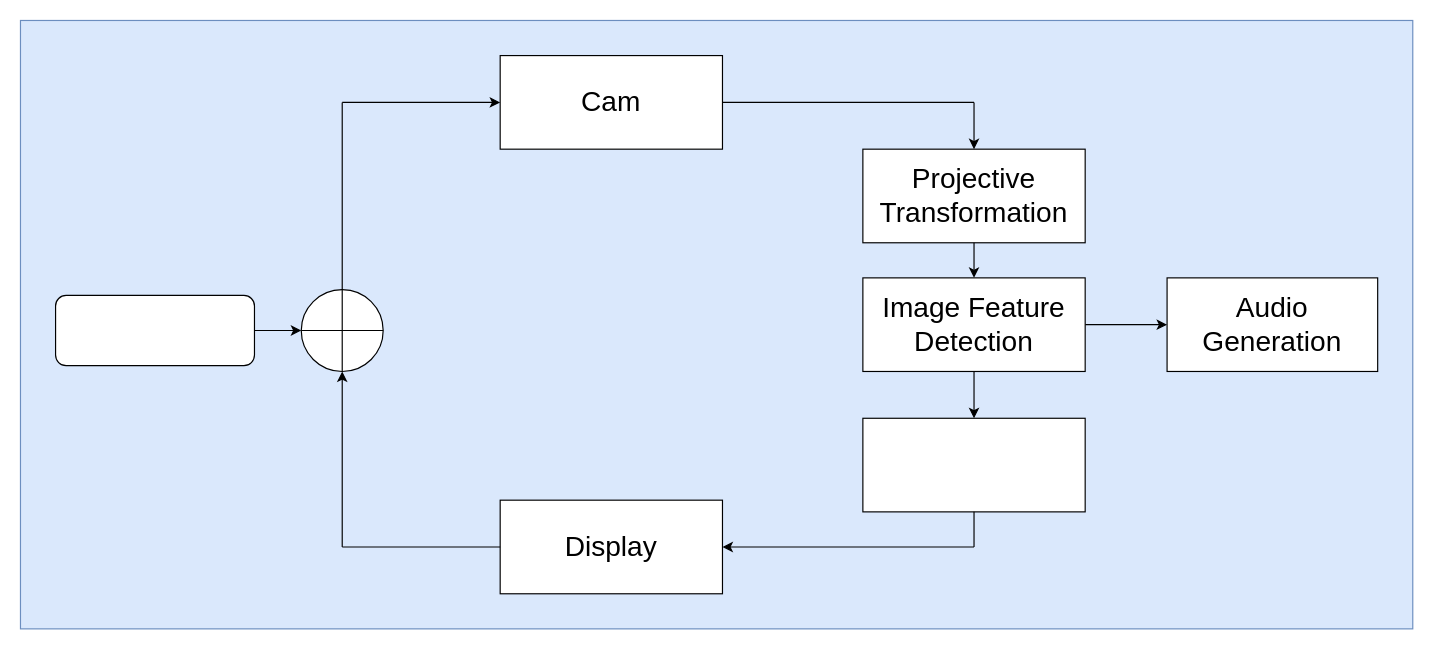
This 1433x649 diagram has some shape labels left out. The shapes that lost their labels are listed below. From the top down, each one's box as (x1, y1, x2, y2) in pixels, then its label:
(54, 294, 254, 366): User Input
(862, 417, 1085, 512): Image Generation
